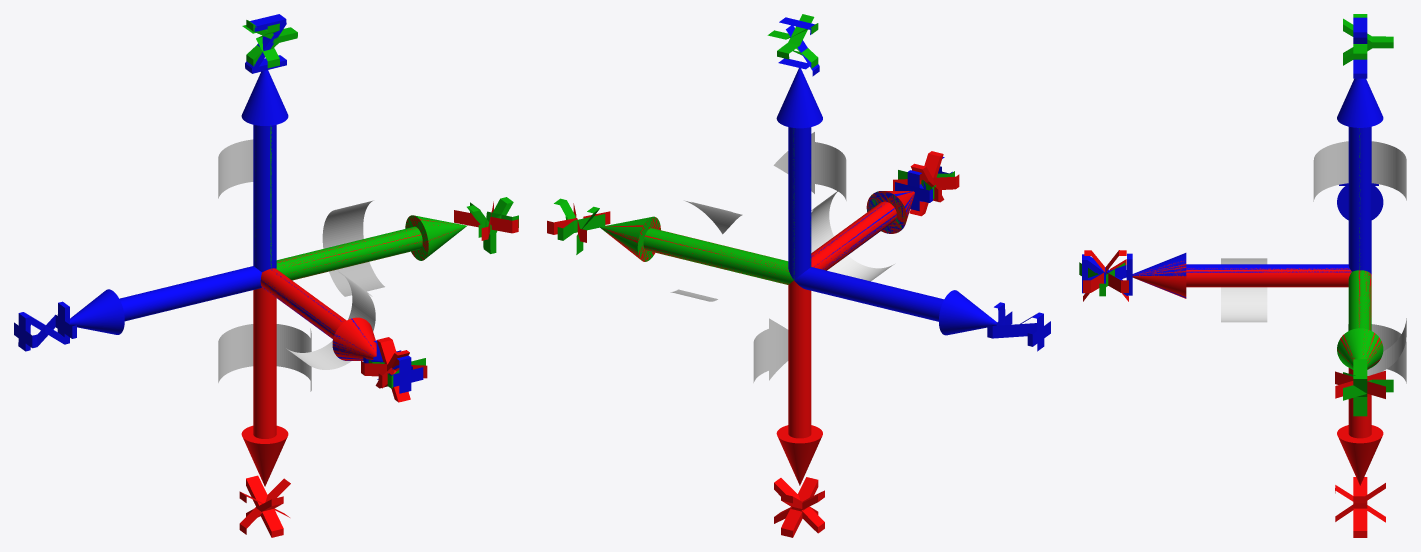
Rendered from fig2_16.gltf.
3 renders of one model, left to right at view 1: azimuth 30°, elevation 25°; view 2: azimuth 150°, elevation 25°; view 3: azimuth 270°, elevation 25°, orthographic.
Visible parts, largest first — view 1: Renderer Node (×6); view 2: Renderer Node (×6); view 3: Renderer Node (×6).
Boxes of the visible parts, x1,y1,x2,y2 form: Renderer Node (×6): (14,14,518,537); Renderer Node (×6): (547,14,1050,537); Renderer Node (×6): (1079,14,1406,537).
Size of the model in its own units: 2.41 by 2.41 by 1.41.
